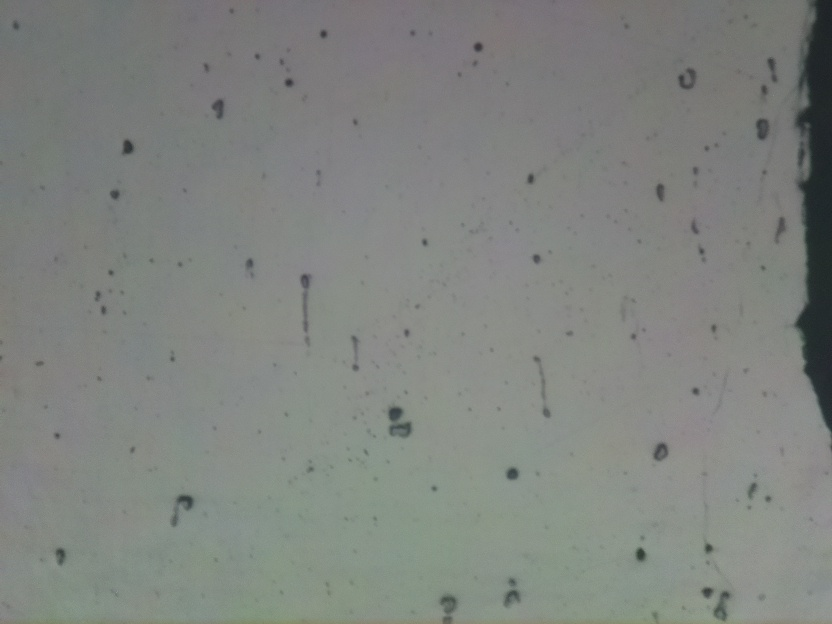crack: (796, 0, 832, 429)
